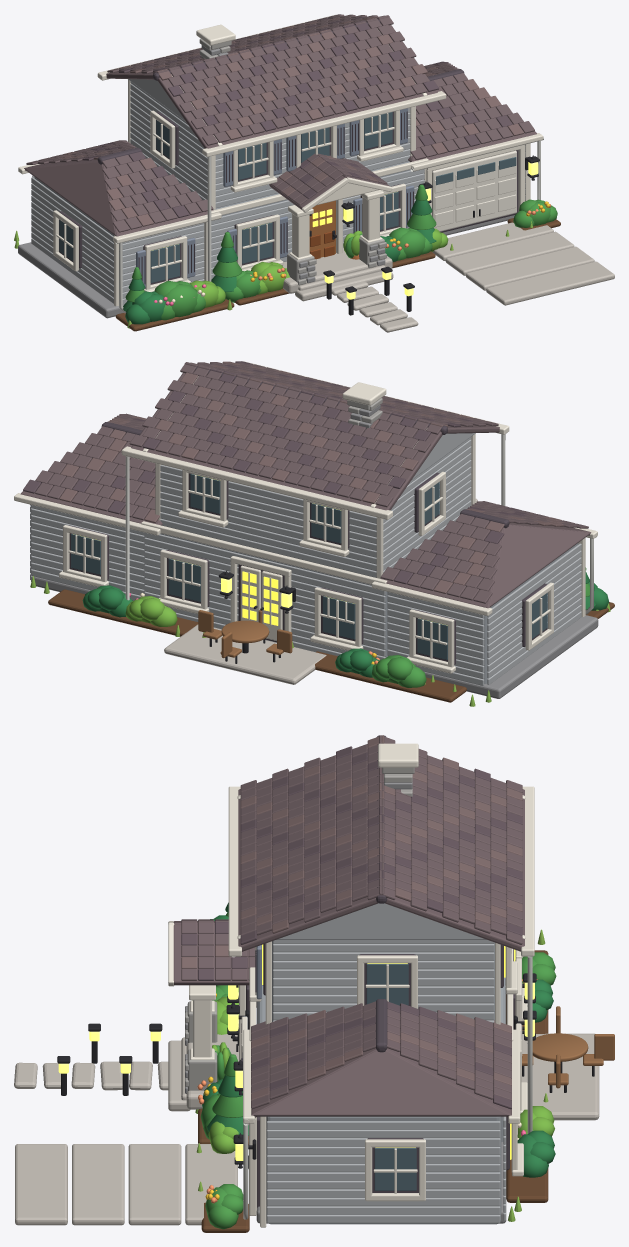
The model's file is CouchGuys_House_01.fbx.
3 views of the same model, one above another, from view 1: azimuth 30°, elevation 25°; view 2: azimuth 150°, elevation 25°; view 3: azimuth 270°, elevation 25° (orthographic). The views are drawn at different scales.
Parts seen in each view (by area): view 1: Shingles_Main, Shingles_Garage, Shingles_LeftWing, Roof_LeftWing_Left, Shingles_Porch, Driveway_Slab_03, Roof_Main_Front, Driveway_Slab_02, Driveway_Slab_01, Garage_Door, Foundation_Main, Main_Eave_Front (+36 smaller); view 2: Shingles_Main, Shingles_LeftWing, Shingles_Garage, Rear_Patio, Roof_LeftWing_Left, Foundation_Main, Roof_Main_Back, Main_Eave_Back, Storey_Belt_Back, Bed_BackL, UpperBack_Board_00, UpperBack_Board_01 (+63 smaller); view 3: Shingles_Main, Shingles_Garage, Roof_Garage_Right, Driveway_Slab_01, Driveway_Slab_02, Driveway_Slab_03, Main_Gable_Right, Rear_Patio, Shingles_Porch, Driveway_Slab_00, GarageOuter_Board_00, Structure_Garage (+39 smaller).
Boxes of the visible parts, x1=… form: Shingles_Main: x1=107, y1=14, x2=438, y2=145; Shingles_Garage: x1=410, y1=61, x2=534, y2=159; Shingles_LeftWing: x1=26, y1=140, x2=213, y2=232; Roof_LeftWing_Left: x1=24, y1=162, x2=116, y2=235; Shingles_Porch: x1=270, y1=153, x2=387, y2=205; Driveway_Slab_03: x1=486, y1=261, x2=614, y2=305; Roof_Main_Front: x1=158, y1=24, x2=437, y2=148; Driveway_Slab_02: x1=466, y1=246, x2=594, y2=290; Driveway_Slab_01: x1=445, y1=231, x2=574, y2=275; Garage_Door: x1=432, y1=150, x2=516, y2=231; Foundation_Main: x1=18, y1=215, x2=514, y2=318; Main_Eave_Front: x1=202, y1=91, x2=446, y2=156; Shingles_Main: x1=129, y1=361, x2=498, y2=507; Shingles_LeftWing: x1=380, y1=501, x2=588, y2=603; Shingles_Garage: x1=23, y1=413, x2=159, y2=522; Rear_Patio: x1=164, y1=624, x2=326, y2=684; Roof_LeftWing_Left: x1=488, y1=525, x2=590, y2=607; Foundation_Main: x1=34, y1=576, x2=598, y2=698; Roof_Main_Back: x1=131, y1=371, x2=442, y2=510; Main_Eave_Back: x1=121, y1=446, x2=392, y2=519; Storey_Belt_Back: x1=141, y1=521, x2=387, y2=584; Bed_BackL: x1=315, y1=651, x2=466, y2=702; UpperBack_Board_00: x1=160, y1=519, x2=376, y2=577; UpperBack_Board_01: x1=160, y1=512, x2=376, y2=571; Shingles_Main: x1=240, y1=735, x2=522, y2=944; Shingles_Garage: x1=251, y1=1001, x2=511, y2=1109; Roof_Garage_Right: x1=253, y1=1050, x2=509, y2=1116; Driveway_Slab_01: x1=128, y1=1144, x2=181, y2=1225; Driveway_Slab_02: x1=72, y1=1144, x2=124, y2=1225; Driveway_Slab_03: x1=15, y1=1144, x2=67, y2=1225; Main_Gable_Right: x1=276, y1=903, x2=486, y2=939; Rear_Patio: x1=522, y1=1033, x2=599, y2=1120; Shingles_Porch: x1=181, y1=919, x2=255, y2=980; Driveway_Slab_00: x1=185, y1=1144, x2=237, y2=1225; GarageOuter_Board_00: x1=266, y1=1214, x2=500, y2=1223; Structure_Garage: x1=266, y1=1116, x2=501, y2=1224.
Size of the model in its own units: 1770 by 826 by 1504.
